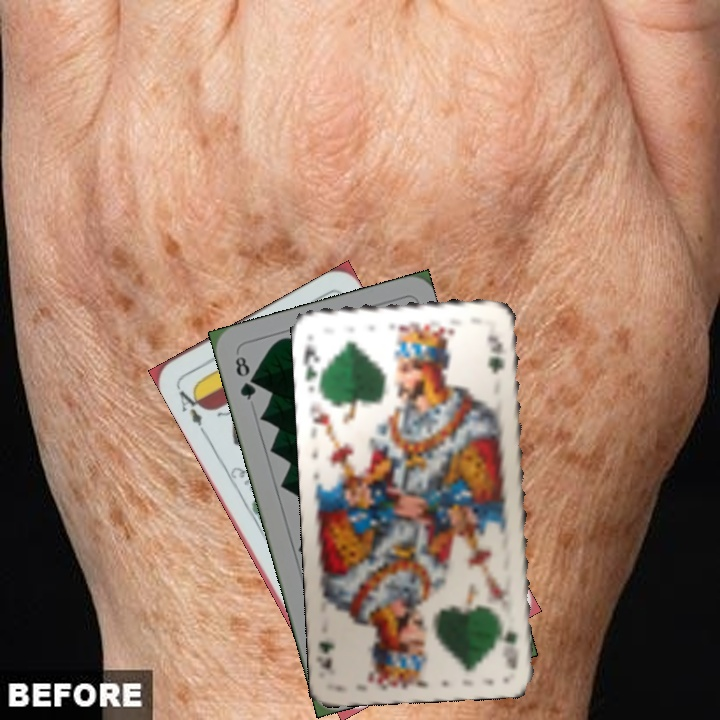EA: (174, 384, 208, 436)
G8: (231, 352, 259, 403)
GK: (299, 340, 327, 391), (500, 626, 522, 671)
